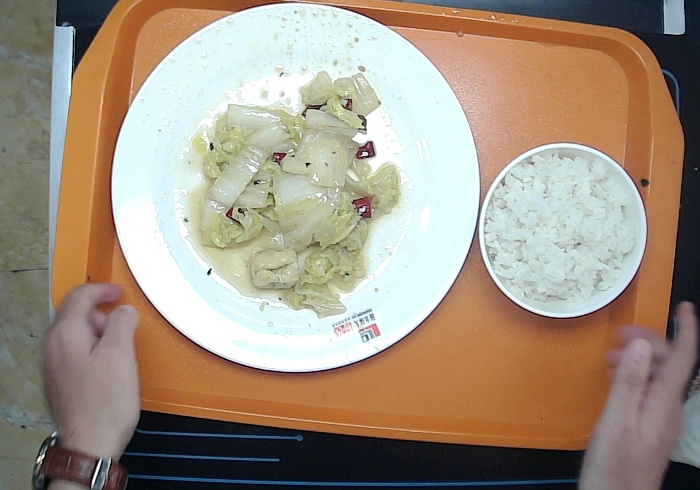ZNLD-Da_Yuan_Pan: (108, 3, 483, 371)
ZNLD-Fan_Wan: (473, 140, 649, 316)
